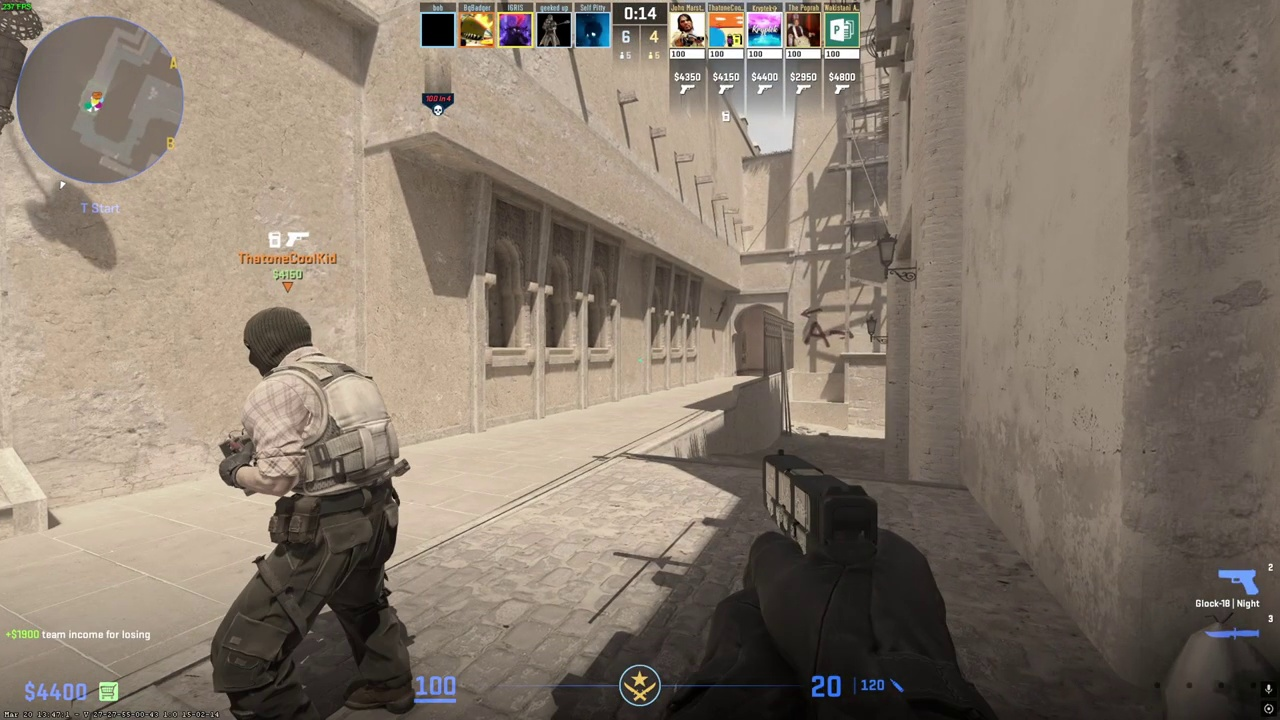Terrorist: (210, 307, 415, 720)
